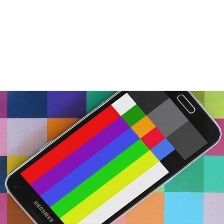phone: (2, 68, 222, 223)
